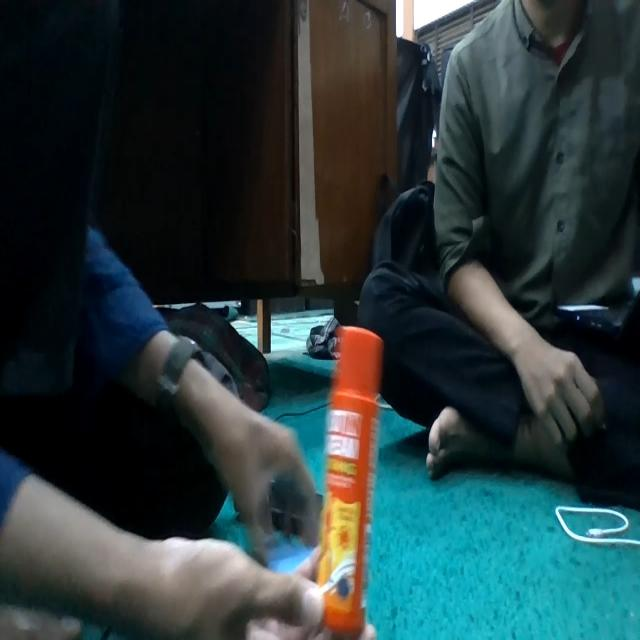Boncabe: (315, 326, 383, 639)
